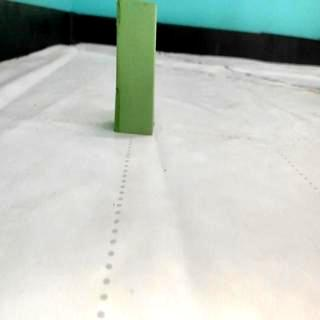greenbox: (114, 0, 157, 137)
